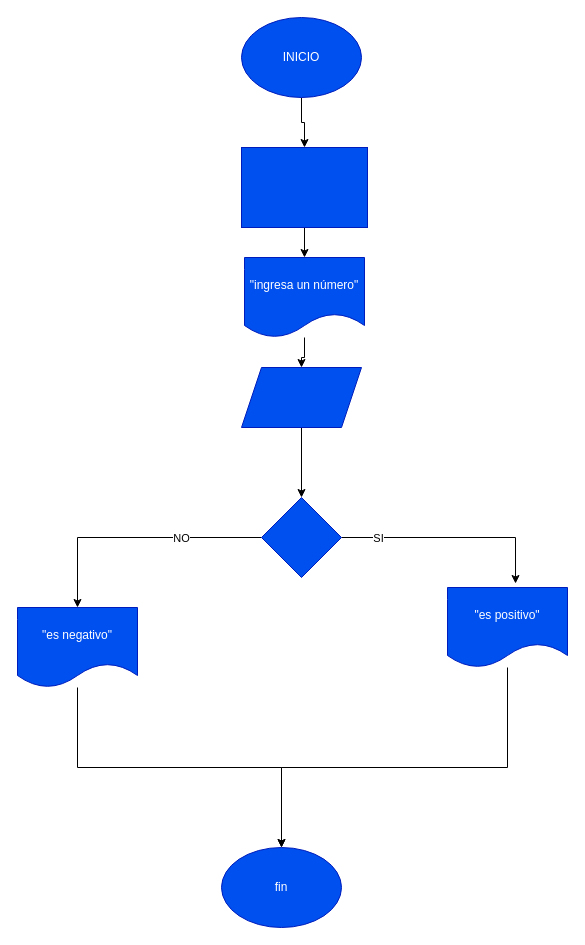
This 585x945 diagram has some shape labels left out. The shapes that lost their labels are listed below. From the top down, each one's centre as x and y in pixels, then its label:
the point at 304,187: num(int)
the point at 301,397: num
the point at 301,537: num>0
